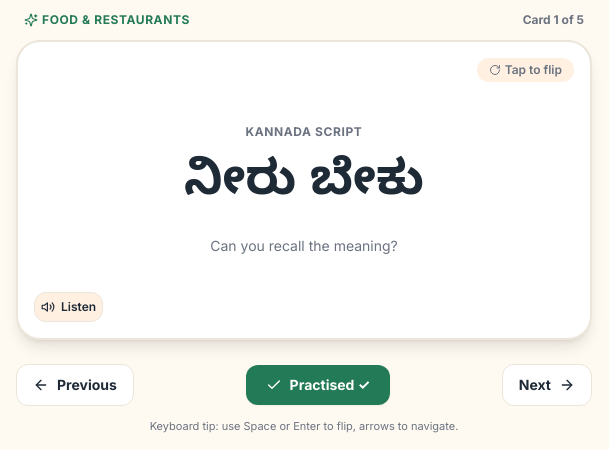
Test: Flashcard Component › displays Kannada script on front and flips to reveal meaning
Check: the heading "ನೀರು ಬೇಕು" is shown, box [184,164,424,212]
Check: the text "I would like water" is not shown
// Tap card to flip
Click the button with aria-label "flashcard": coordinates (304, 190) [16,40,592,340]
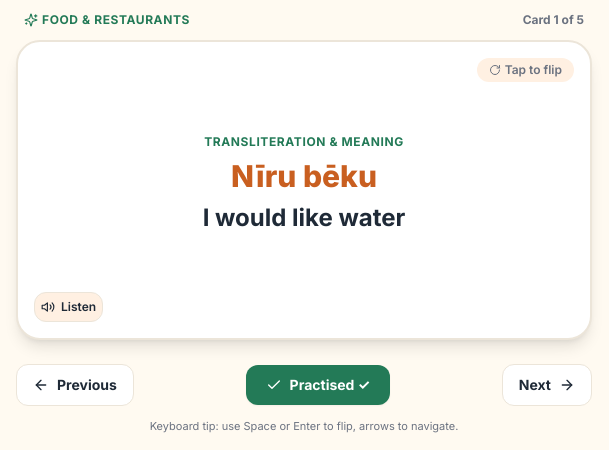
Check: the text "I would like water" is shown, box [203,202,405,234]
Check: the heading "Nīru bēku" is shown, box [231,158,377,194]
